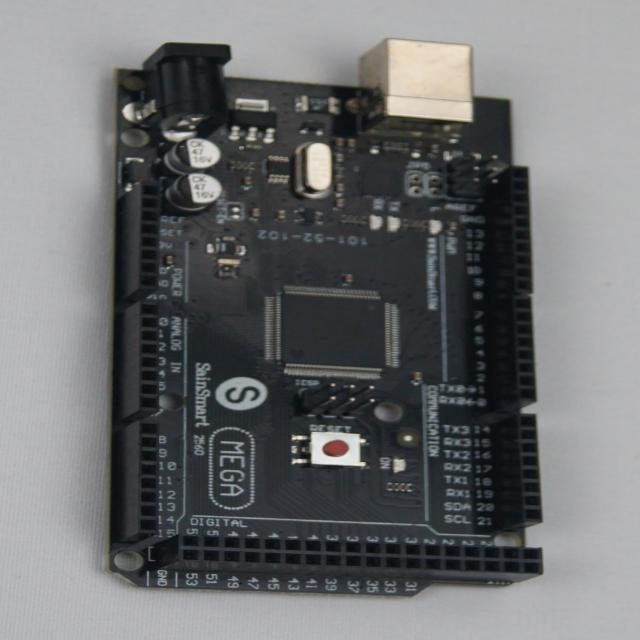Arduino Mega 2560 -Black-: (111, 41, 543, 596)
